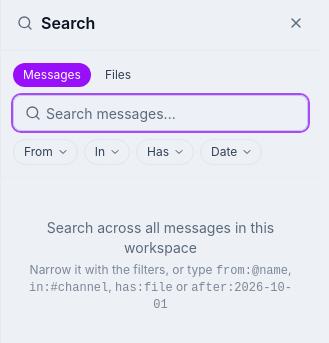
Test: SearchPanel › searches files by name on the Files tab
Click the tab with test id "search-tab-files" at (118,75), box [95,63,141,87]
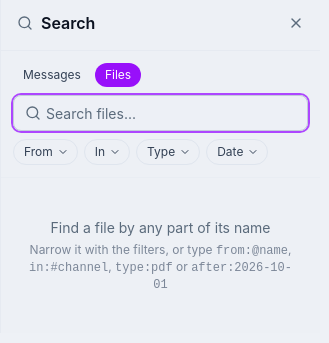
Expected: the button with test id "search-filter-type" is shown, [137,140,199,164]
Expected: the button with test id "search-filter-has" is gone
Type "budg" into the field at (160,113), box [13,95,308,131]
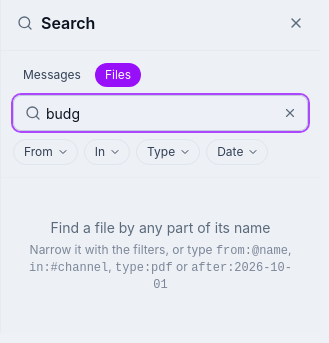
Press Enter in the field, box [13,95,308,131]
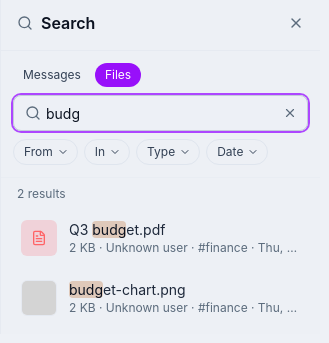
Expected: the number of elements with test id "file-hit" is 2, [9,210,312,266]; [9,270,312,326]
Expected: the element with test id "file-hit" shows "Q3 budget.pdf", [9,210,312,266]
Expected: the element with test id "file-hit" shows "2 KB", [9,210,312,266]
